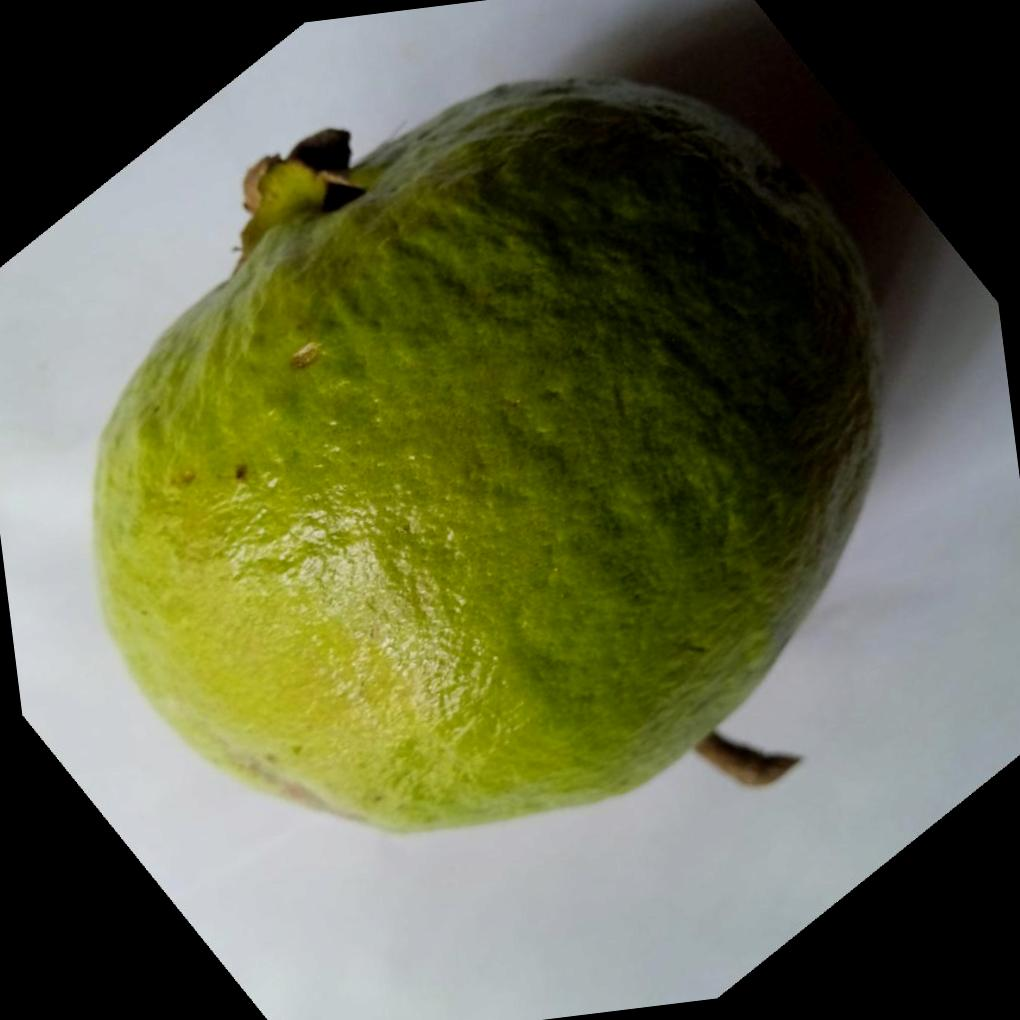FreshGuava: (89, 71, 882, 834)
